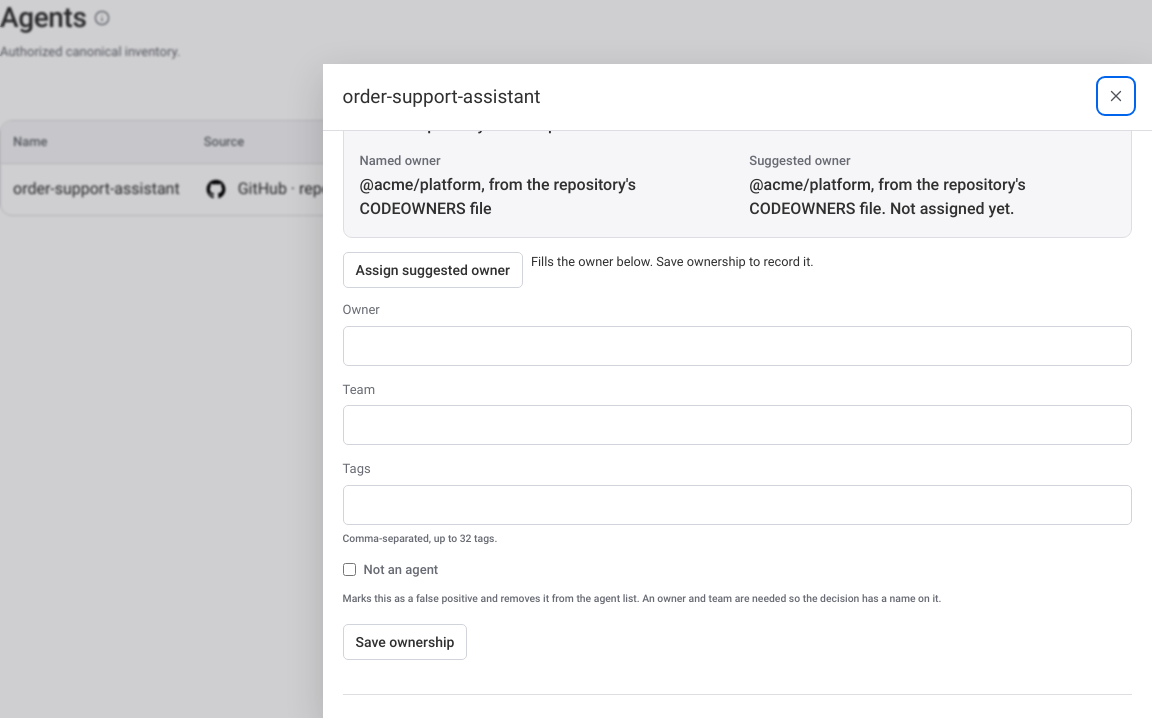
Test: inventory attribution › leaves the team to the person when only an owner is suggested, and calls a CODEOWNERS owner a named owner
Earlier steps of the test are not shown.
(page scrolled)
Check: the text "@acme/platform, from the repository's CODEOWNERS file" is shown, box [360,175,636,218]
In the field labelled "Team": (737, 425) [343,405,1132,445], type "typed-team"
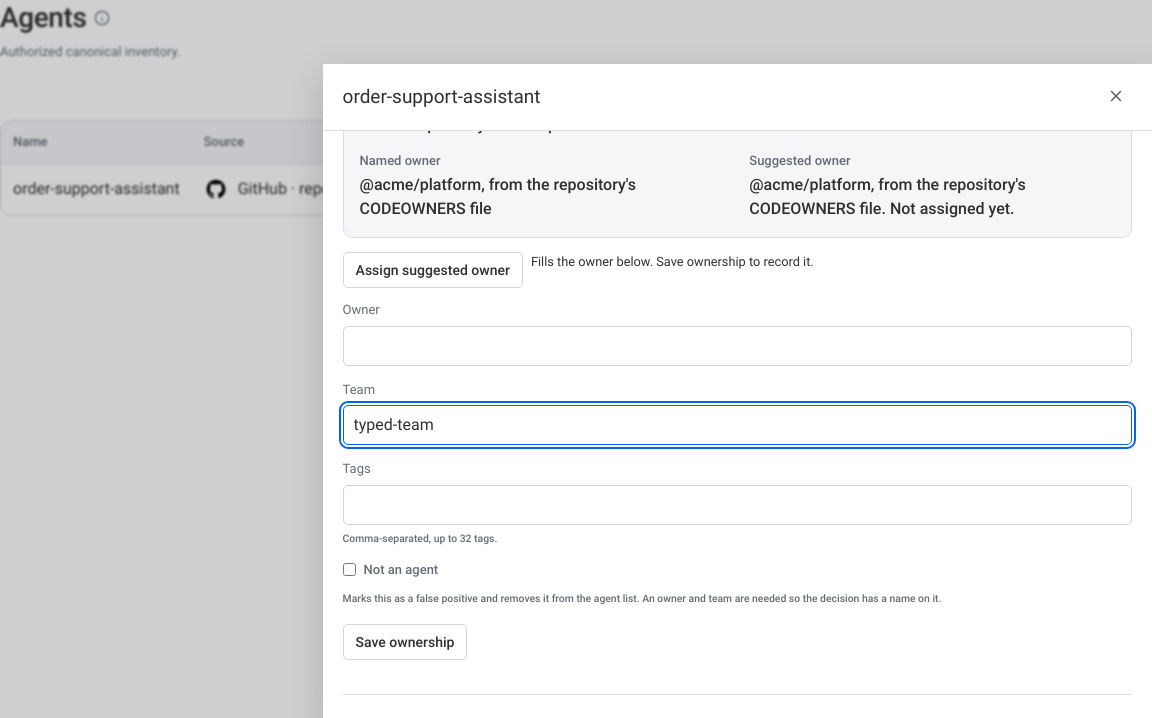
Click the button "Assign suggested owner": (433, 270) [343,252,523,288]
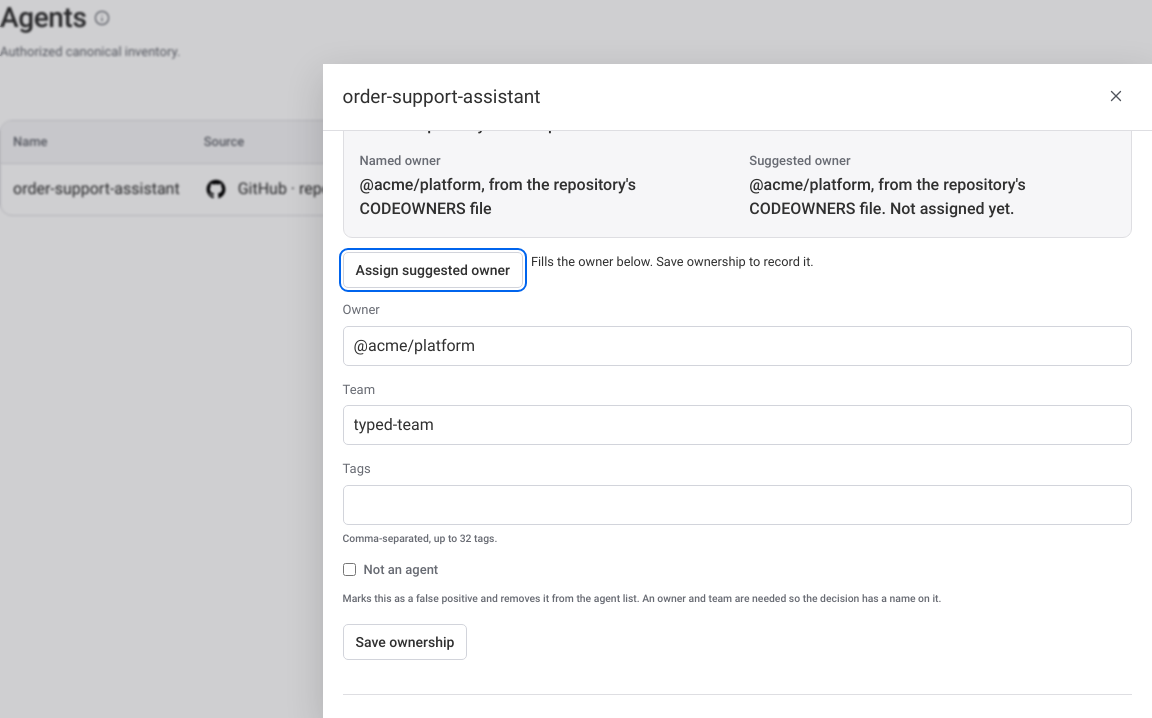
Check: the field labelled "Owner" holds "@acme/platform", box [343,326,1132,366]
